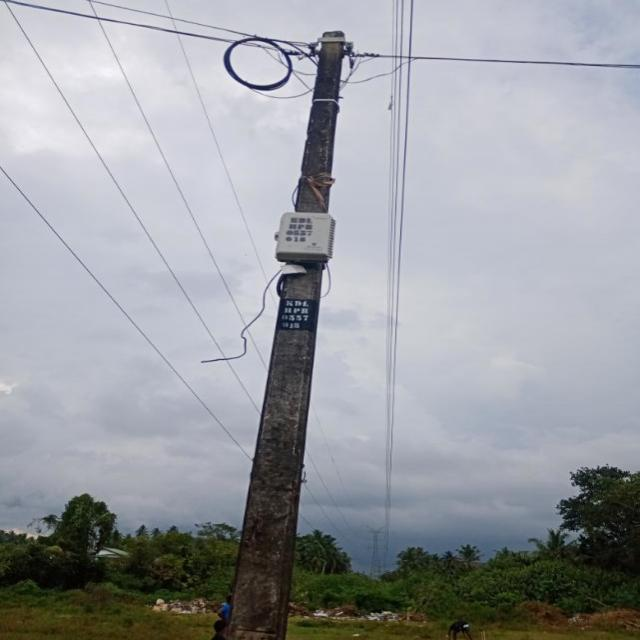light_pole: (216, 27, 348, 640)
